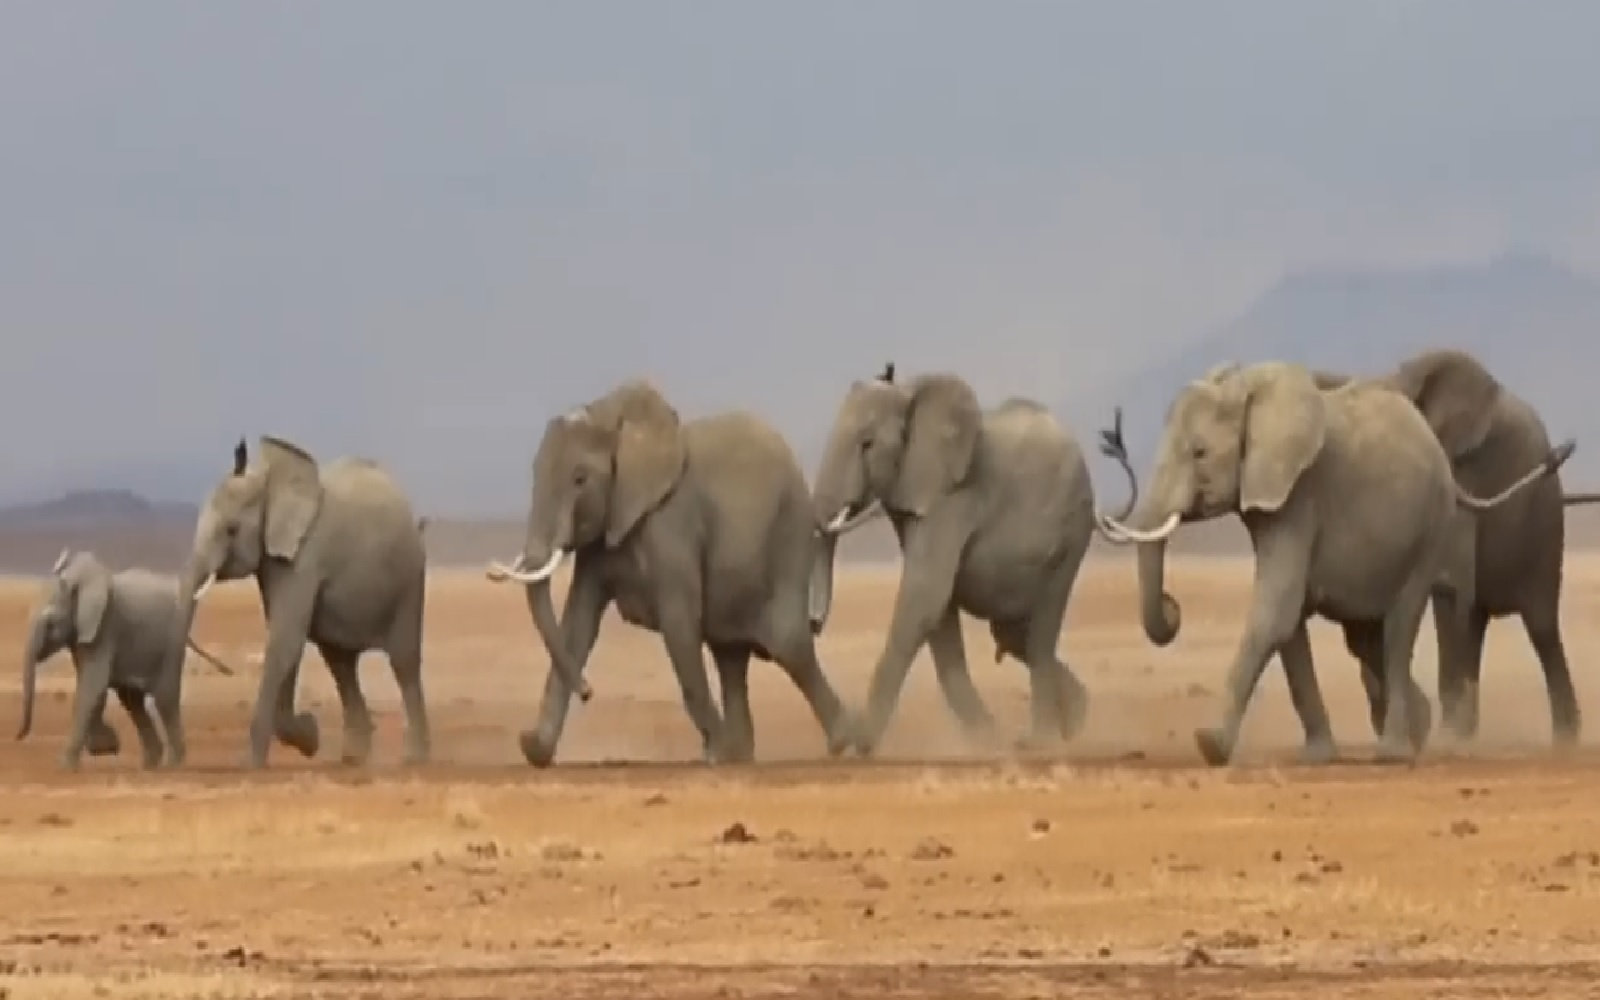elephant: (470, 370, 869, 762), (793, 370, 1133, 767), (1130, 353, 1468, 750), (160, 422, 453, 757), (1383, 315, 1598, 755), (13, 535, 180, 790)
